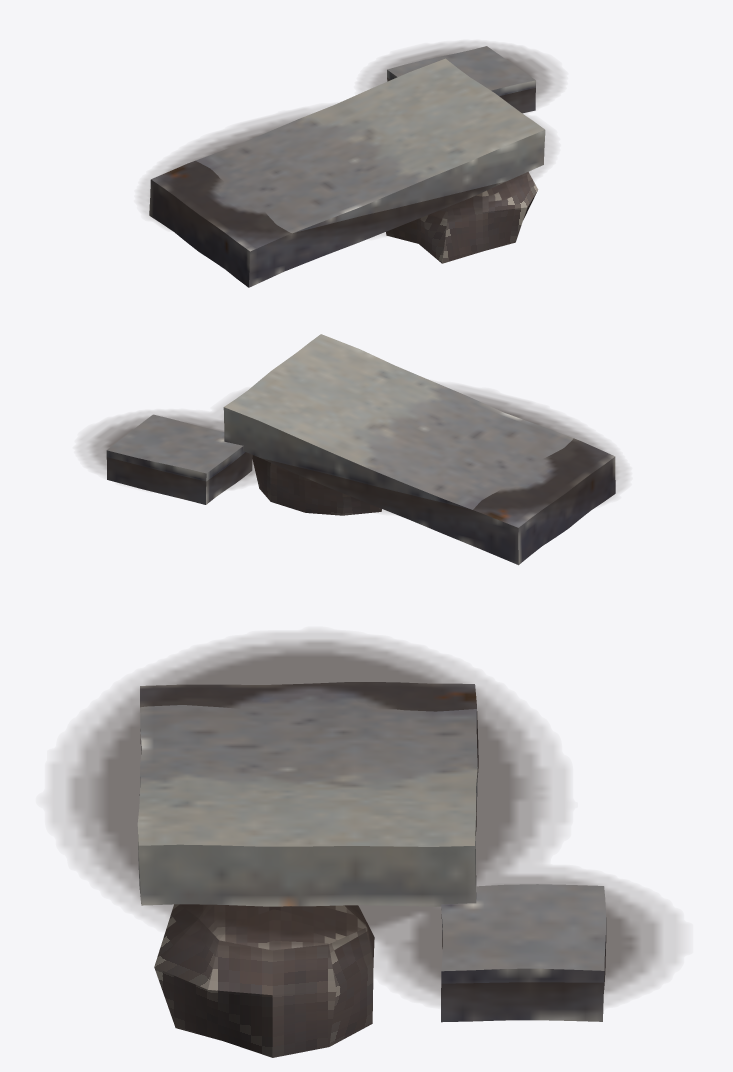
3 views of the same model, one above another, from view 1: azimuth 30°, elevation 25°; view 2: azimuth 150°, elevation 25°; view 3: azimuth 270°, elevation 25° (orthographic). The views are drawn at different scales.
Visible parts, largest first — view 1: Slab, GroundShade, SlabStone; view 2: Slab, GroundShade, SlabStone; view 3: Slab, GroundShade, SlabStone.
Part boxes in pixels (<box>): Slab: <box>149,46,545,287</box>; GroundShade: <box>140,42,562,242</box>; SlabStone: <box>386,172,538,263</box>; Slab: <box>106,334,615,565</box>; GroundShade: <box>79,384,626,519</box>; SlabStone: <box>252,455,381,515</box>; Slab: <box>137,682,606,1022</box>; GroundShade: <box>52,633,676,1013</box>; SlabStone: <box>154,904,374,1057</box>.
Bounding box in the file's own units: 11 × 2.52 × 7.9.
Materials: 3 (3 with a texture image).
